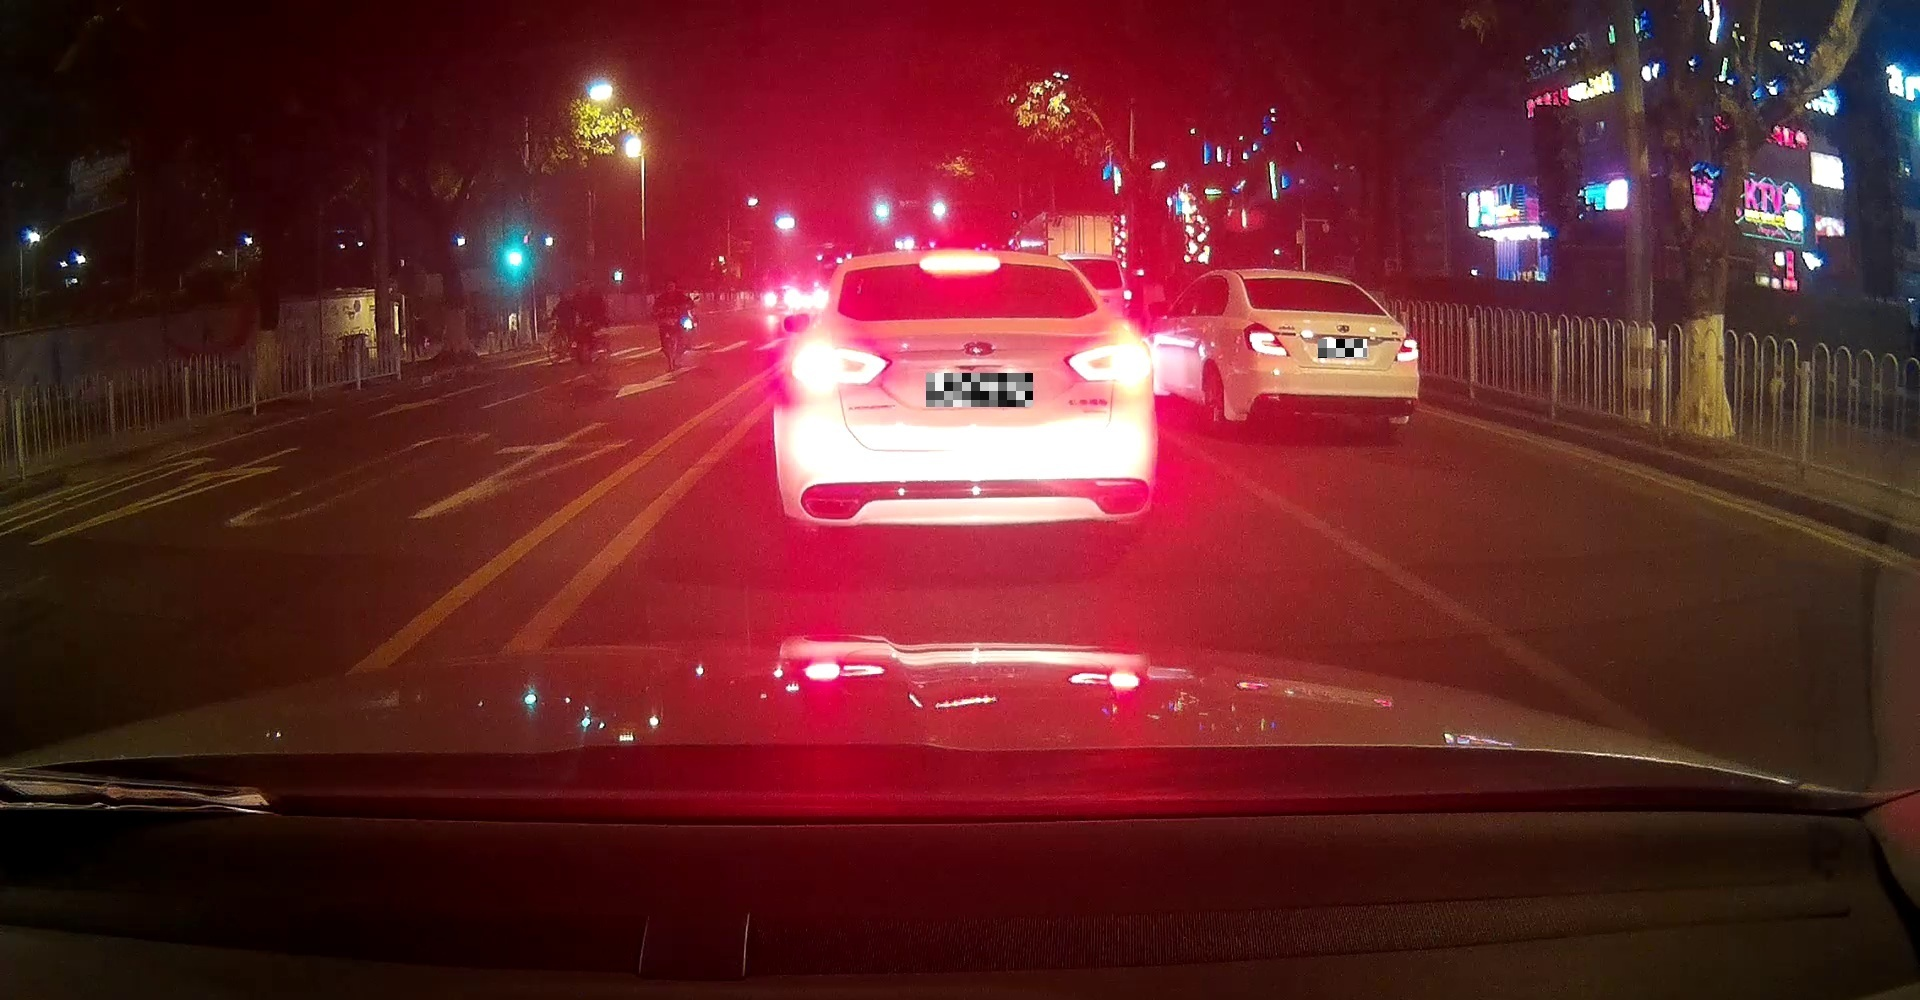L_light: (791, 340, 893, 386), (1242, 322, 1291, 357)
R_light: (1063, 340, 1152, 382), (1392, 330, 1418, 362)
T_light: (919, 254, 1001, 273), (1316, 307, 1345, 313)
night-brake: (773, 249, 1156, 542)
night-no: (1239, 268, 1418, 434)
plate_1: (926, 373, 1032, 407)
plate_2: (1318, 339, 1368, 358)
